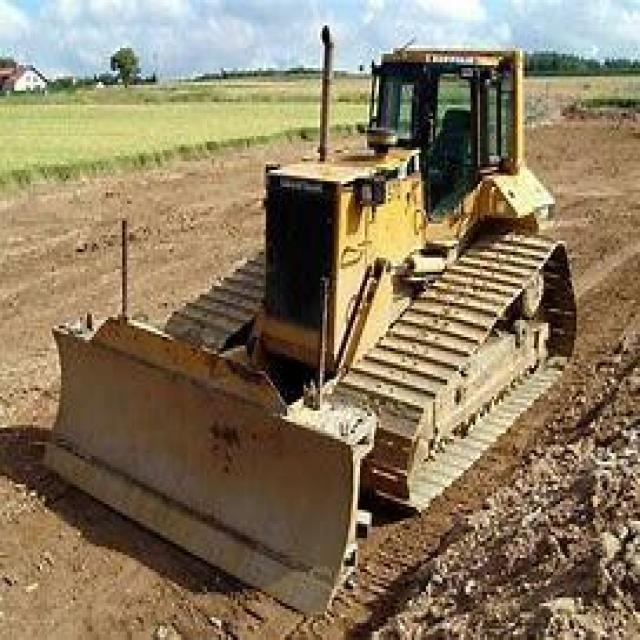Bulldozer: (31, 28, 618, 618)
